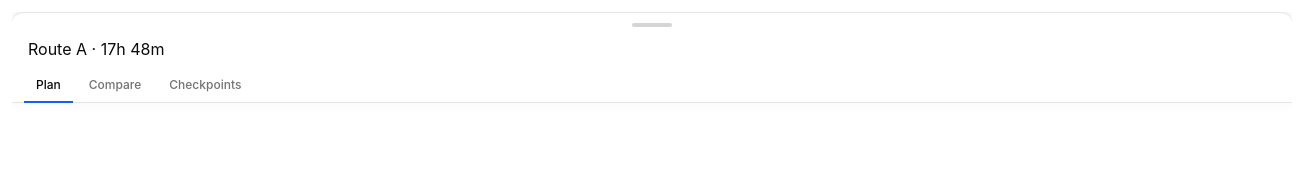
Test: MobileSheet › collapses to the summary and expands when a tab or the summary is tapped
Check: the text "Route A · 17h 48m" is shown, box [28,37,164,61]
Click the button "Route A · 17h 48m" at (96, 49), box [12,37,1292,69]
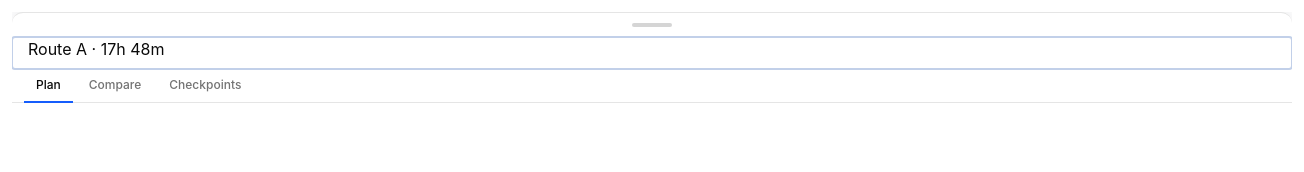
Check: the button named "Collapse panel" is expanded, box [12,13,1292,37]
